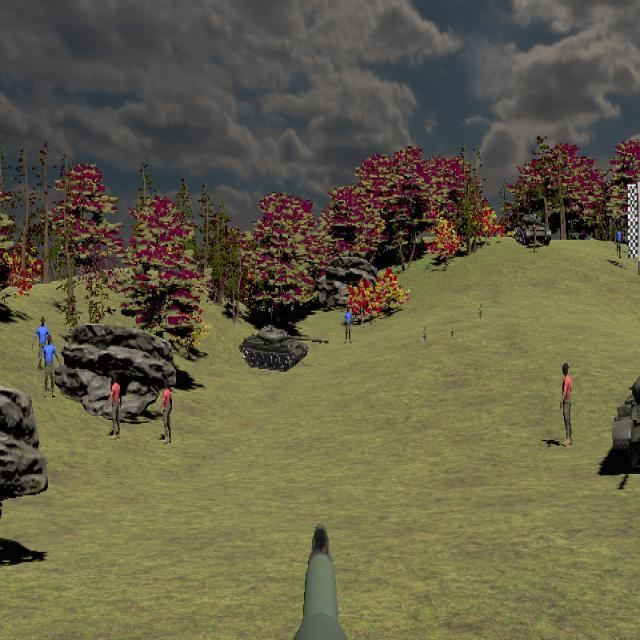Human: (38, 334, 62, 399), (32, 316, 54, 373), (559, 362, 573, 446), (108, 373, 123, 439), (160, 377, 173, 444)
Tank: (239, 324, 329, 373), (612, 371, 640, 471), (515, 211, 551, 247)
